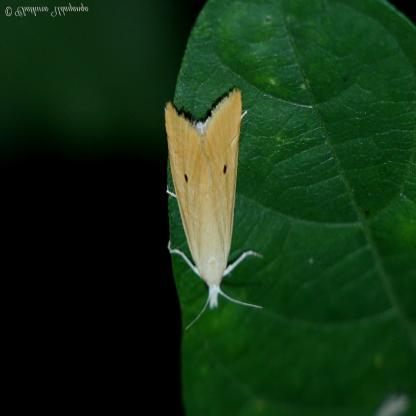stem-borer: (160, 84, 264, 330)
